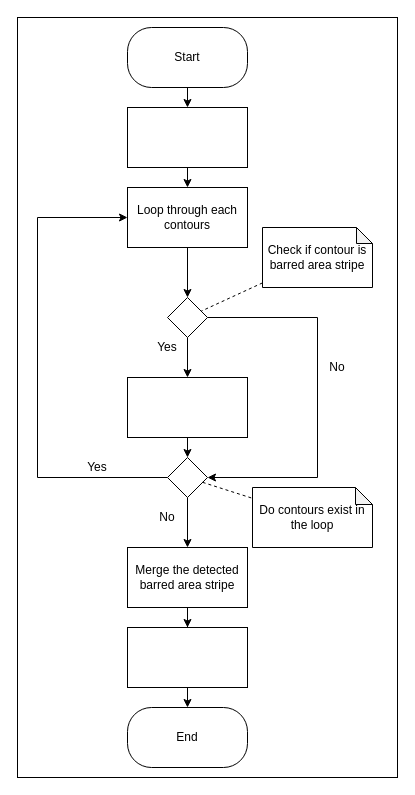
Image size: 415x795. Some labels were removed from this diagram. The shapes that lost their labels are listed below. From the top down, each one's centre as x and y in pixels, then its label:
At [187,137]: "Receive image from top view topic".
At [187,407]: "Store stripes in list of detected barred area stripe".
At [187,657]: "Store results of barred area signs".
